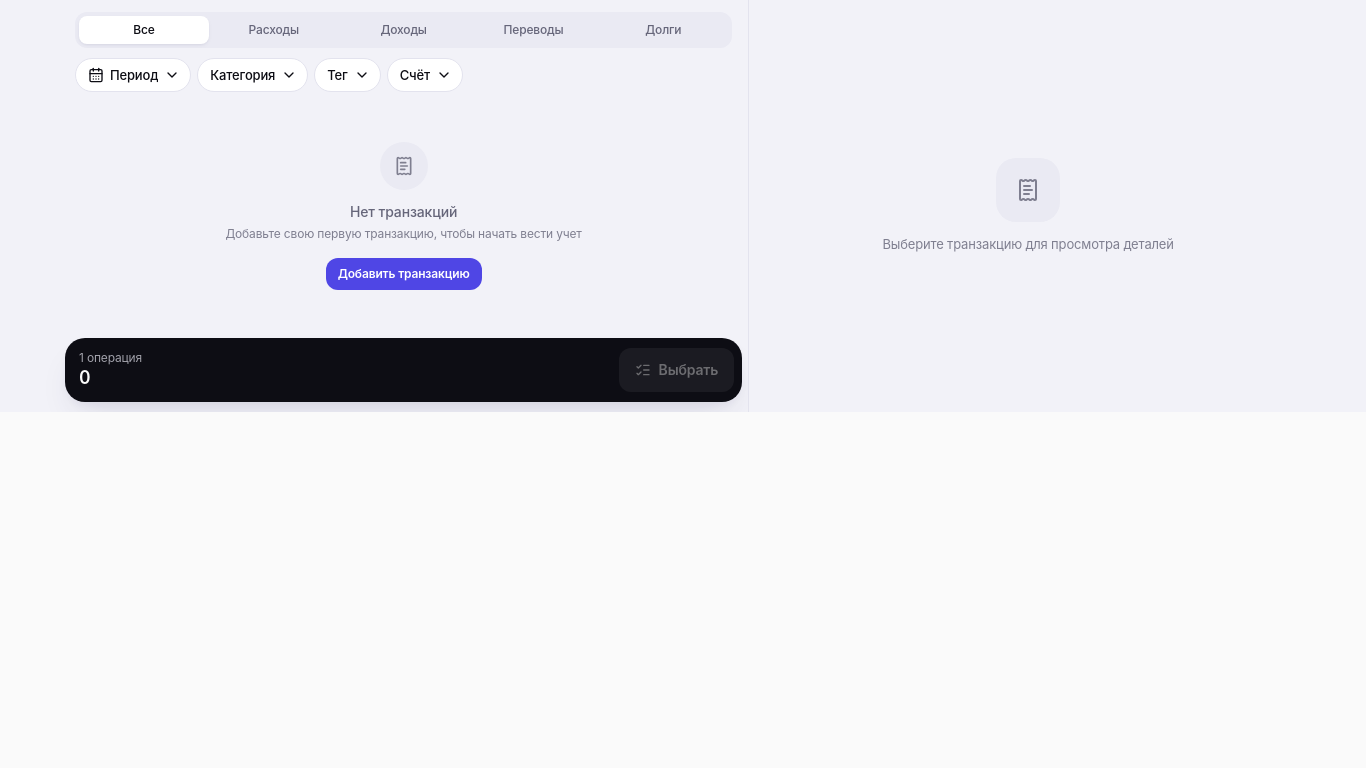
Scenario: HistoryPage › facet chips › show button › with 1 results reads «Показать 1 операцию»
This screenshot has width=1366, height=768.
Click the button with test id "facet-chip-category" at coordinates (253, 75), box [198,59,307,91]
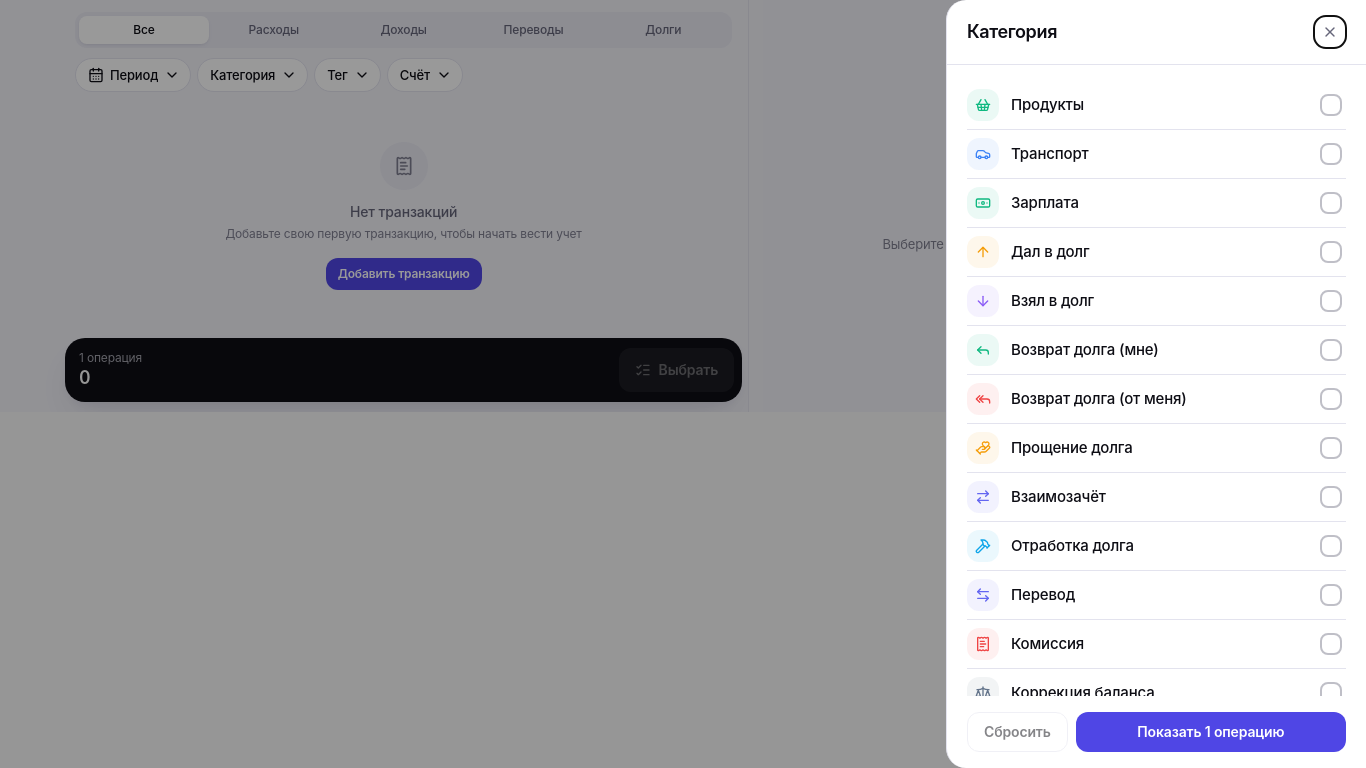
Now the button with test id "facet-show" reads "Показать 1 операцию", box [1076,712,1346,752]
